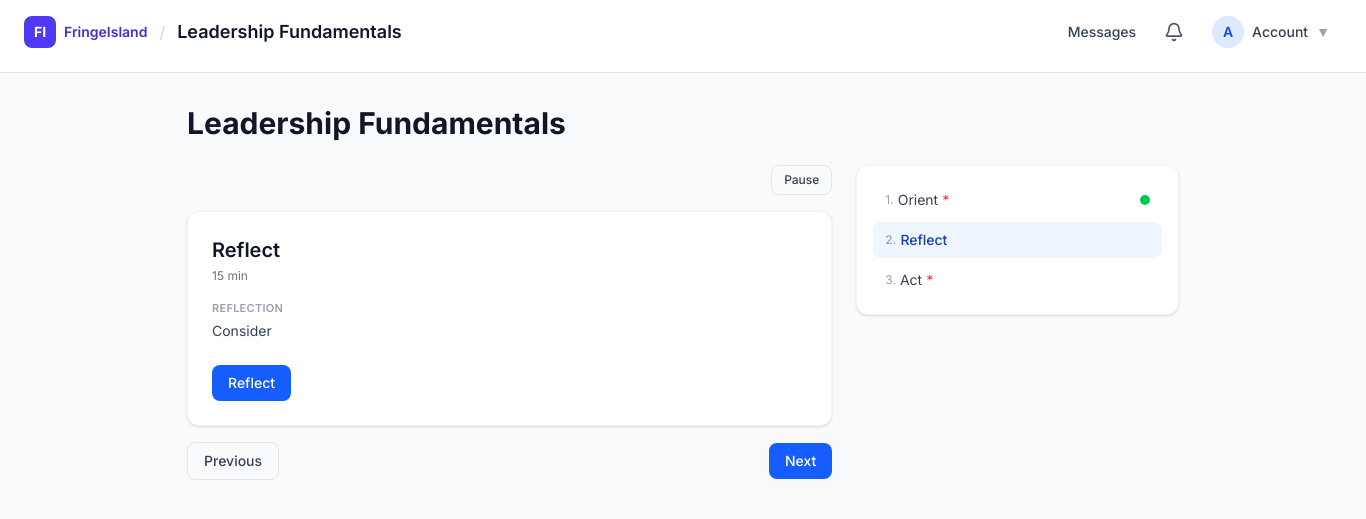
Test case: STORY-2/4 — linear walk with optimistic advance + background auto-save › a background-save failure raises a non-blocking retry; a later success clears it
Expected: the element with test id "journey-player" is shown, [187, 165, 1179, 480]
Click the button with test id "player-next".
click(801, 460)  # box [769, 442, 832, 478]
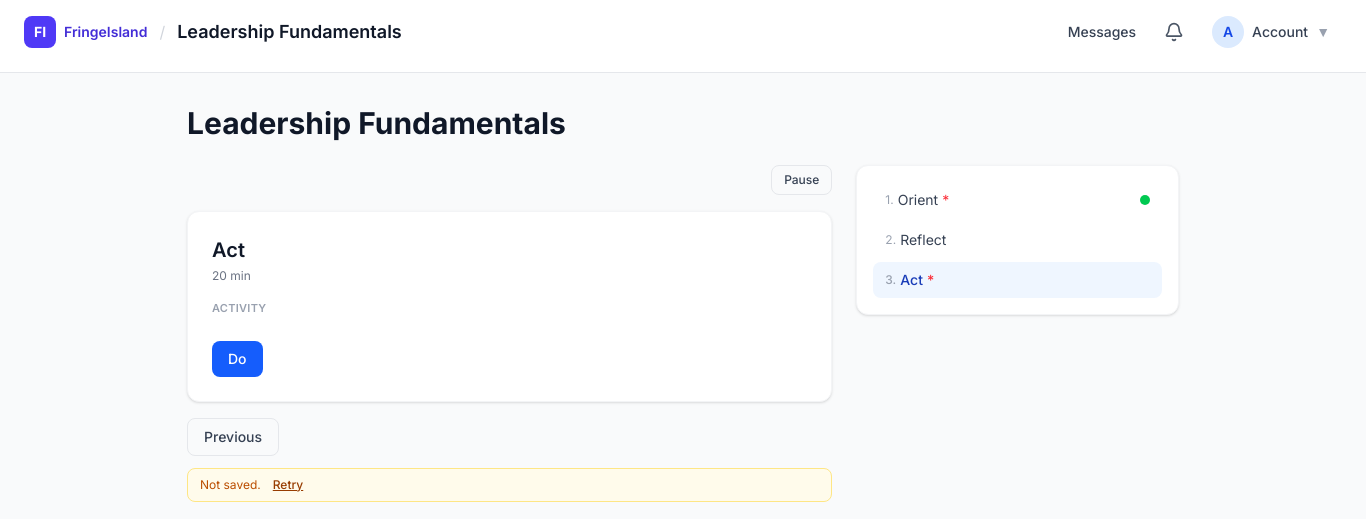
Now the element with test id "step-canvas" shows "Act", box [212, 238, 245, 262]
Now the message "Not saved. Retry" is shown, box [187, 468, 832, 502]
Click the button with test id "autosave-retry".
click(288, 484)  # box [273, 476, 303, 492]
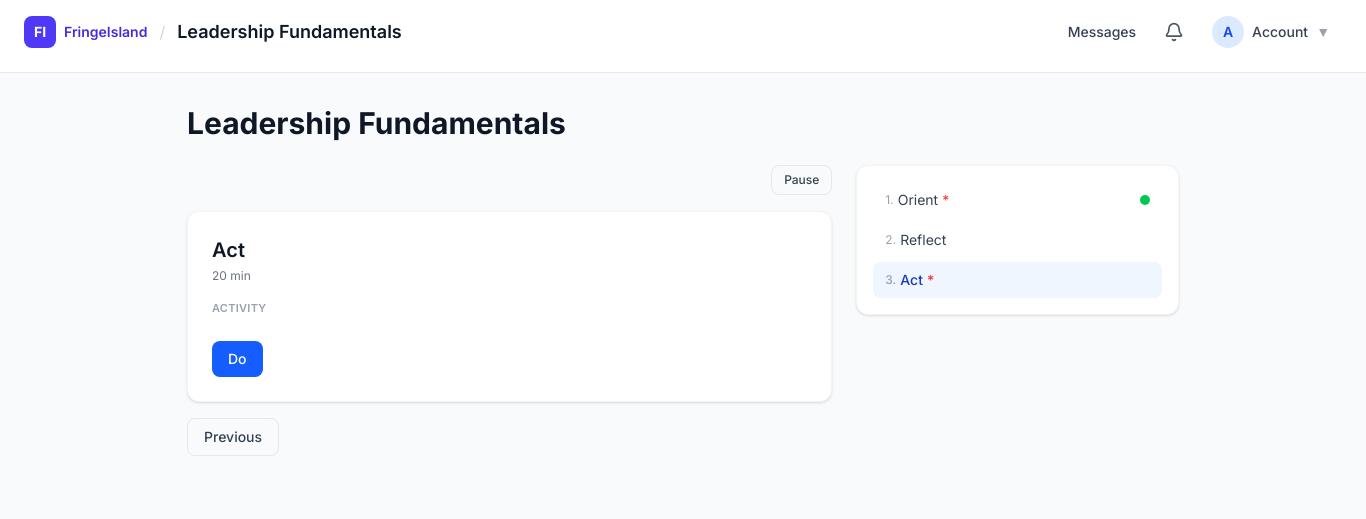
Now the message with test id "autosave-error" is gone
